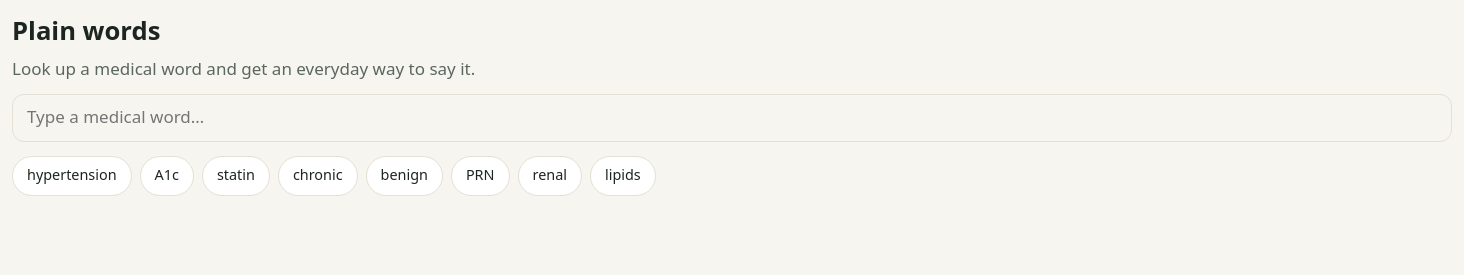
Test: Plain words lookup › shows abbreviations the way clinicians write them
Type "ascvd" into the search field with placeholder "Type a medical word…".
click(732, 118); type("ascvd")  # box 12,94 -> 1452,142
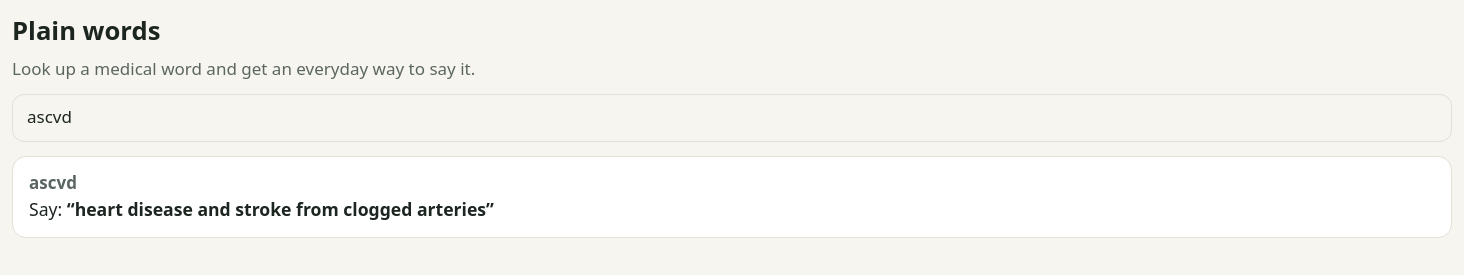
Now the text "ASCVD" is shown, box 29,171 -> 77,194
Replace the text in the search field with placeholder "Type a medical word…" with "bp" at (732, 118), box 12,94 -> 1452,142
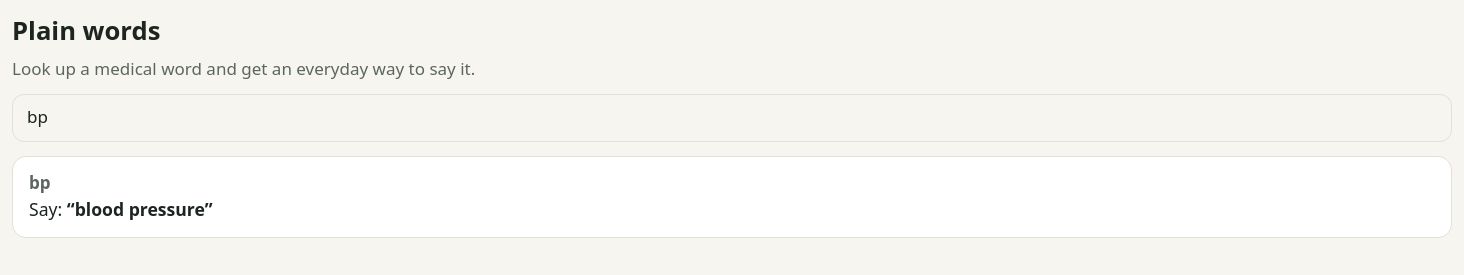
Now the text "BP" is shown, box 29,171 -> 50,194
Replace the text in the search field with placeholder "Type a medical word…" with "prn" at (732, 118), box 12,94 -> 1452,142
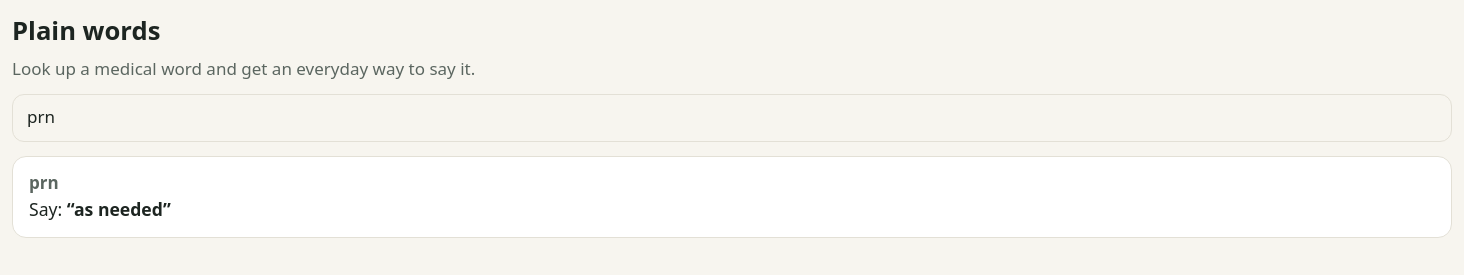
Now the text "PRN" is shown, box 29,171 -> 59,194
Replace the text in the search field with placeholder "Type a medical word…" with "a1c" at (732, 118), box 12,94 -> 1452,142
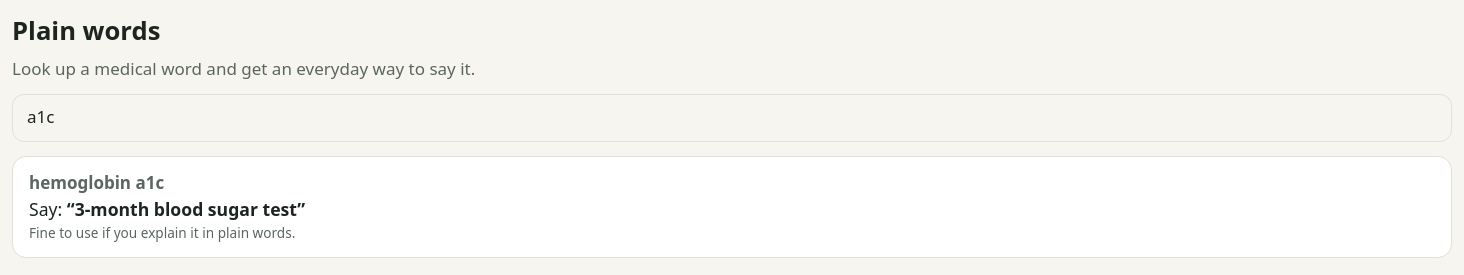
Expected: the text "ASCVD" is not shown
Now the text "hemoglobin A1c" is shown, box 29,171 -> 164,194
